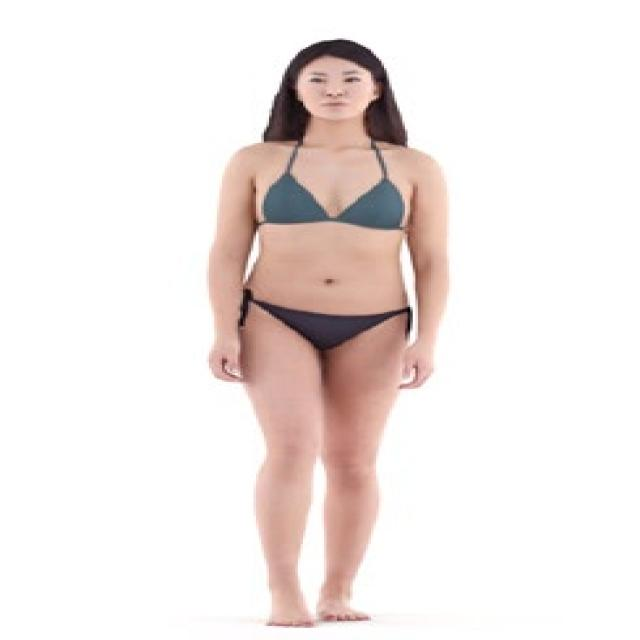standing: (204, 38, 454, 630)
